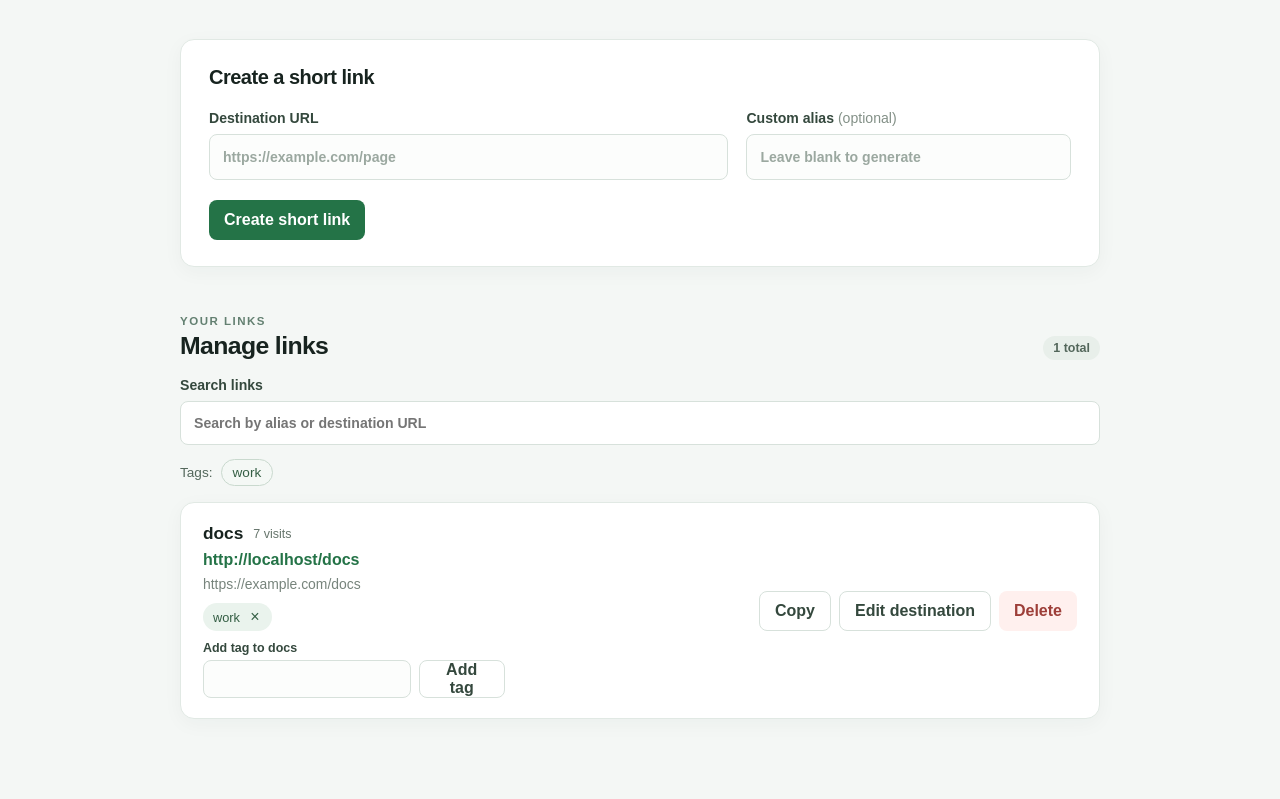
link dashboard › keeps a link unchanged and shows a duplicate-tag error
(page scrolled)
Type "work" into the field labelled "Add tag to docs" at x=307, y=679, box [203,660,411,698]
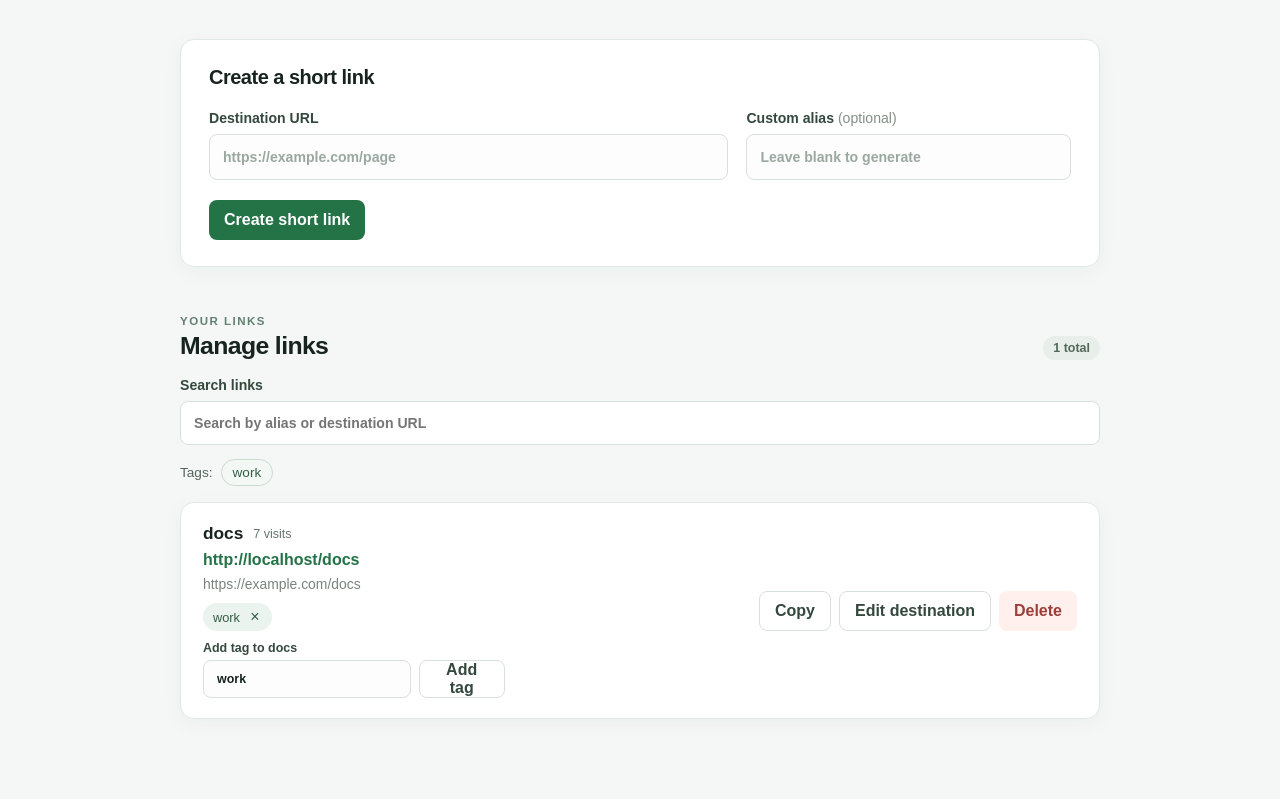
Click the button "Add tag" at x=462, y=679, box [419,660,505,698]
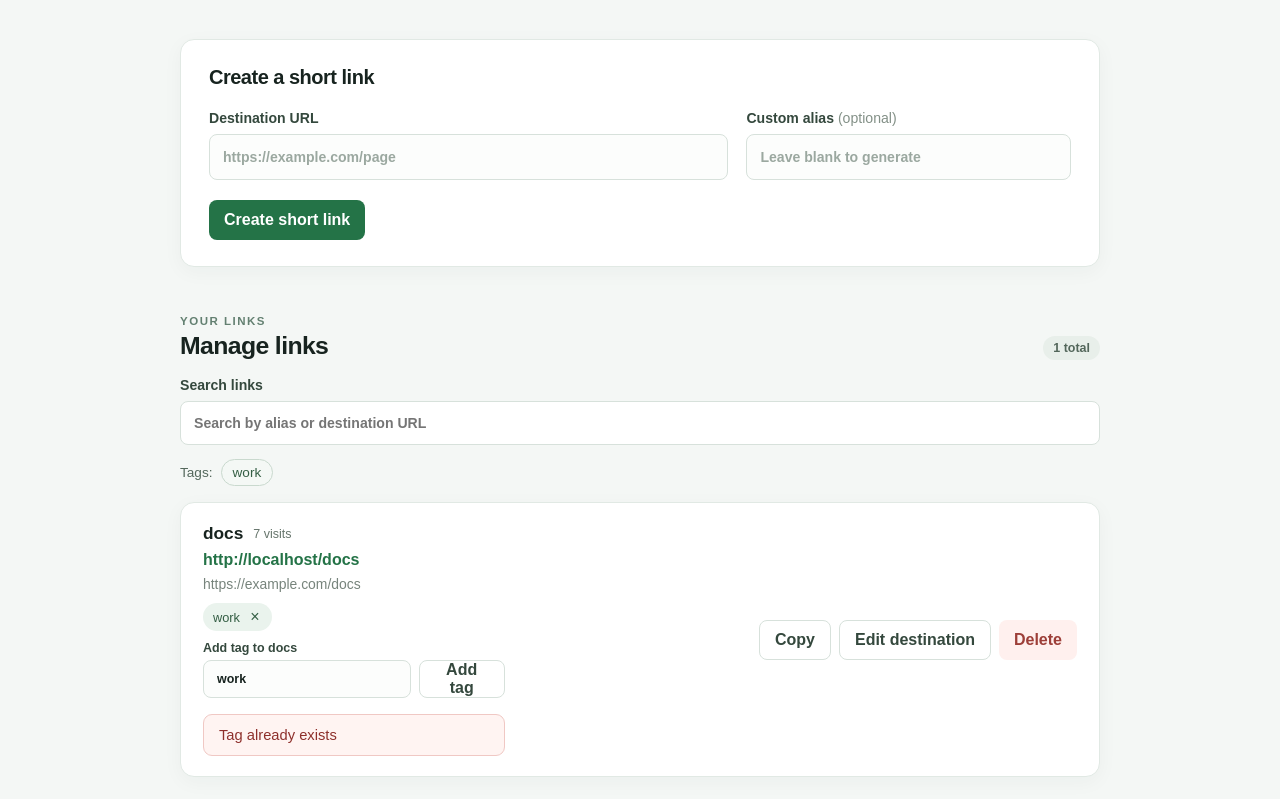
Check: the text "work" is shown once, box [213,610,240,625]
Check: the message reads "Tag already exists", box [219,727,337,743]
